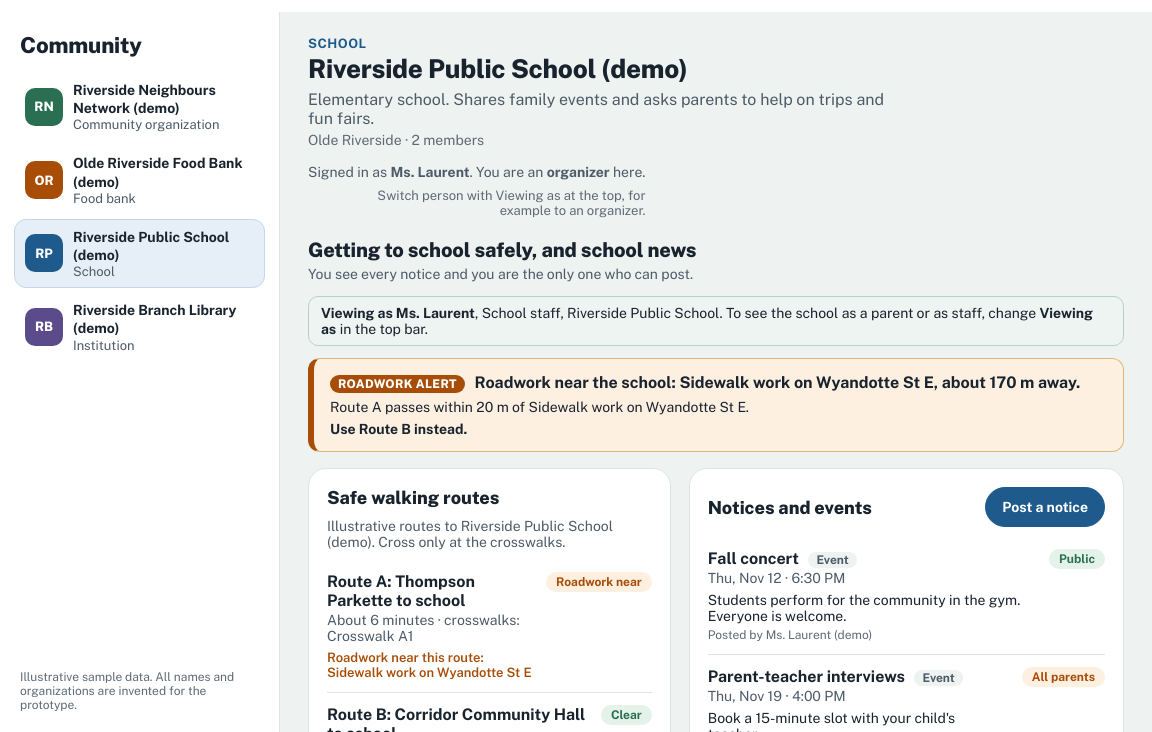
Test: School workspace › asks for a date and time when staff post an event
Check: the heading "Riverside Public School (demo)" is shown, box [308,53,688,84]
Check: the heading "Getting to school safely, and school news" is shown, box [308,238,696,262]
Click the button "Post a notice". click: [1045, 507]
box: [985,487,1105,527]
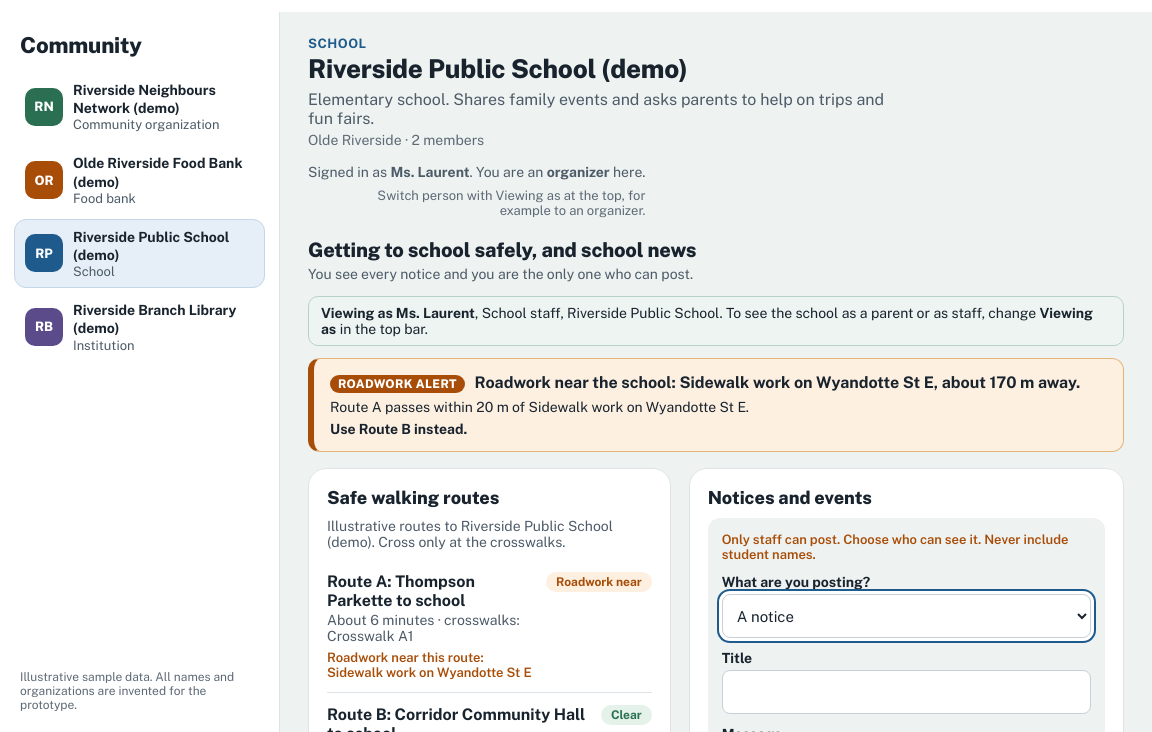
Select "An event" in the dropdown labelled "What are you posting?". click: [906, 616]
box: [722,594,1091,638]
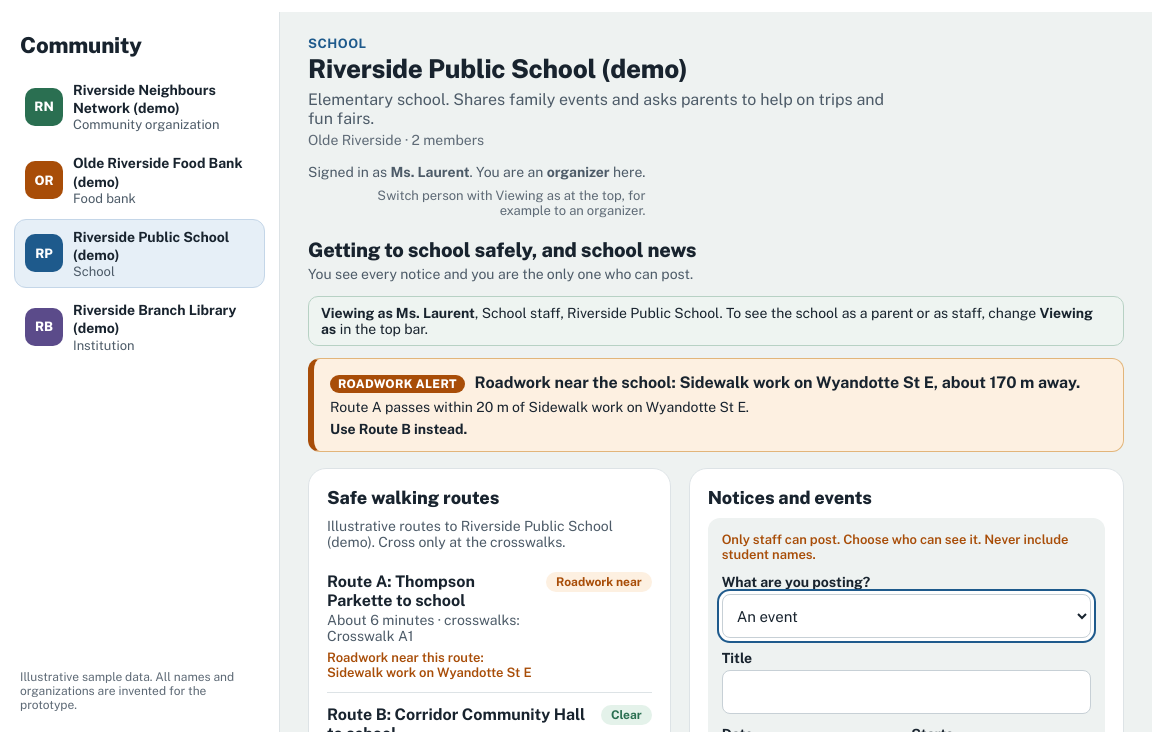
Type "Bake sale" into the field labelled "Title". click: [906, 692]
box: [722,670,1091,714]
(page scrolled)
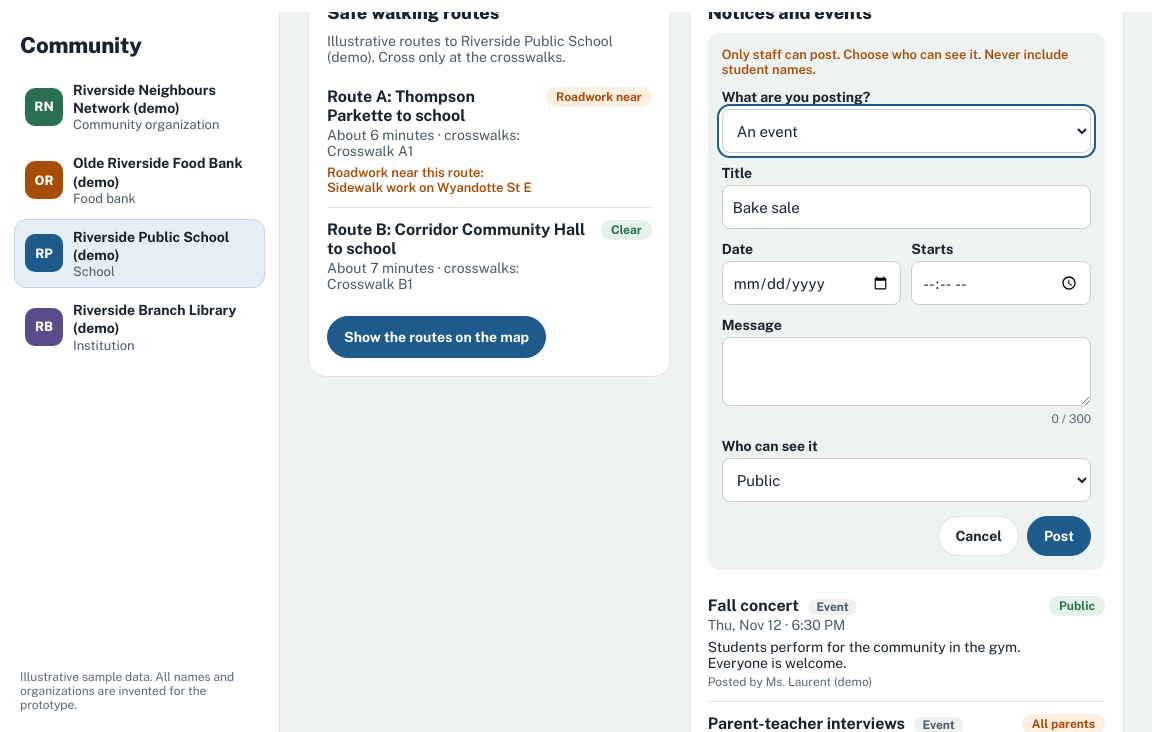
Type "Cookies for all." into the text box labelled "Message". click: [906, 372]
box: [722,337,1091,406]
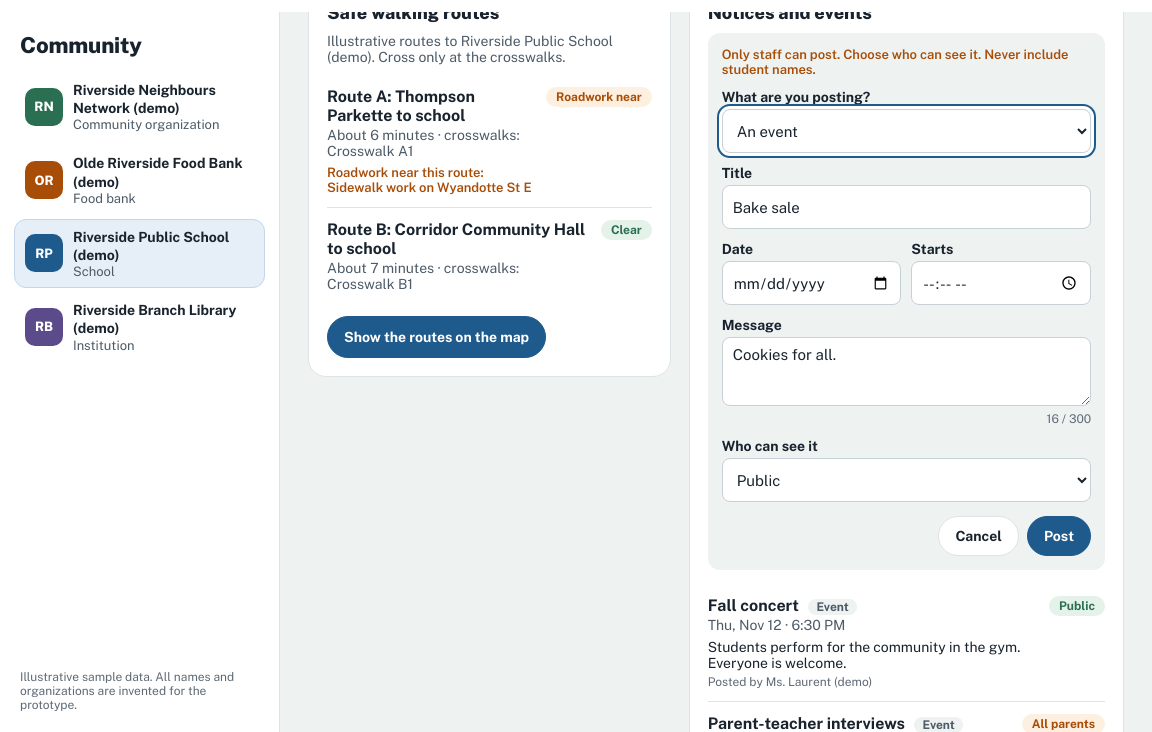
Click the button "Post". click: [1059, 536]
box: [1027,516,1091,556]
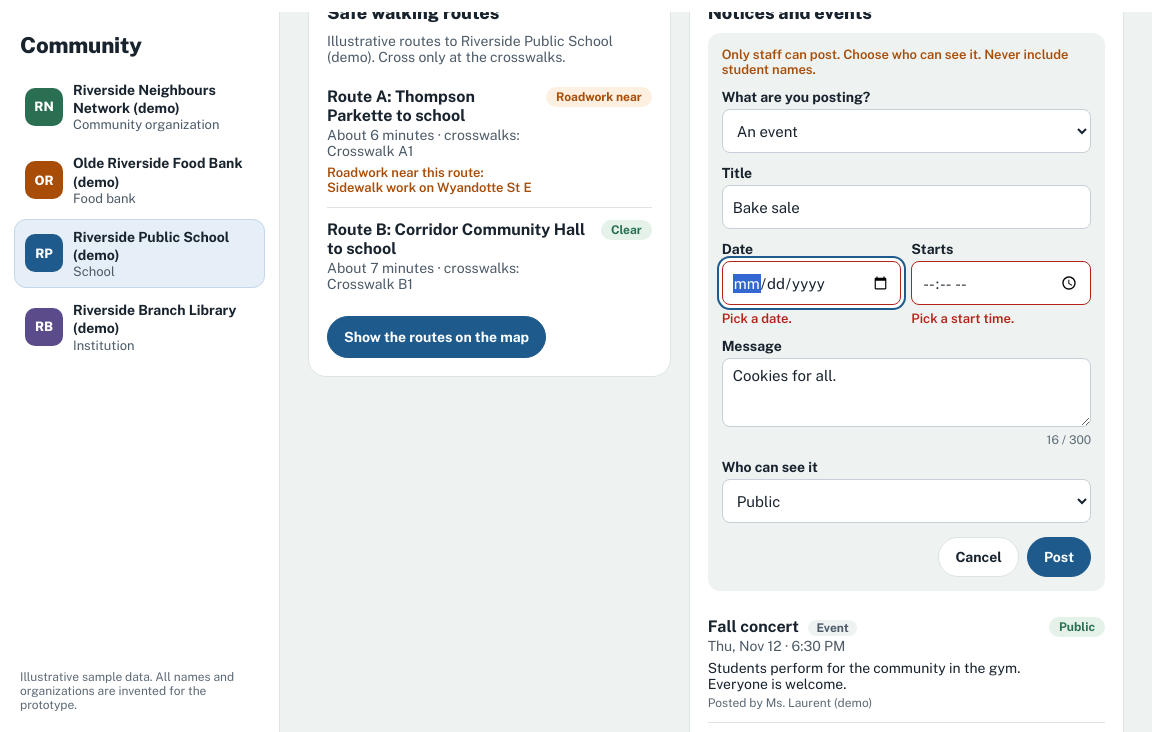
Check: the text "Pick a date." is shown, box [722,311,792,326]
Check: the text "Pick a start time." is shown, box [911,311,1014,326]
